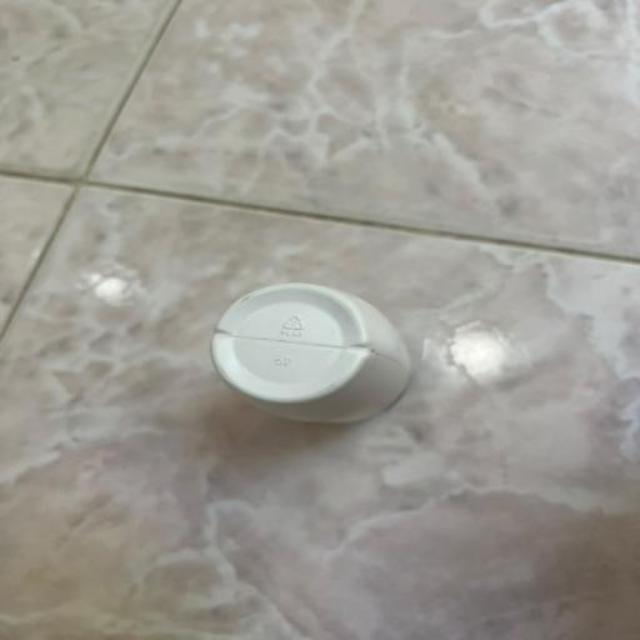HDPE: (158, 274, 439, 472)
